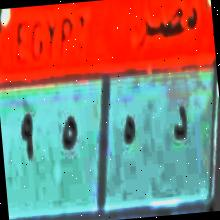5: (59, 109, 82, 160)
9: (14, 105, 40, 176)
daal: (165, 100, 194, 148)
haa: (119, 108, 138, 153)
